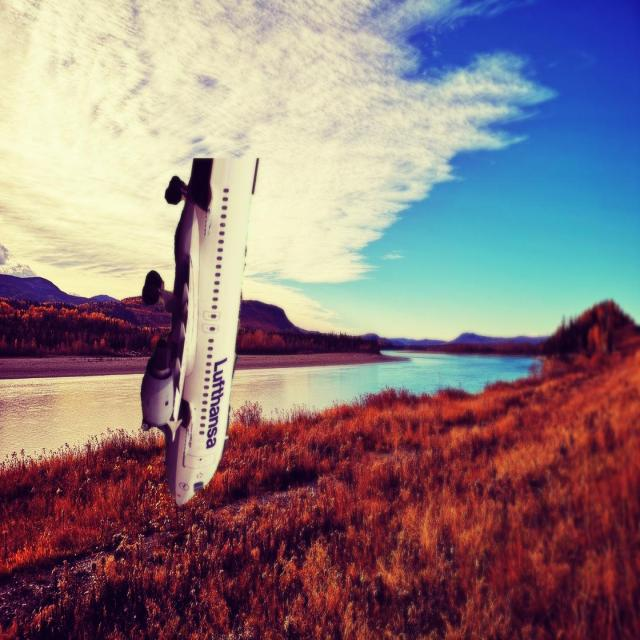airplane: (140, 155, 260, 506)
